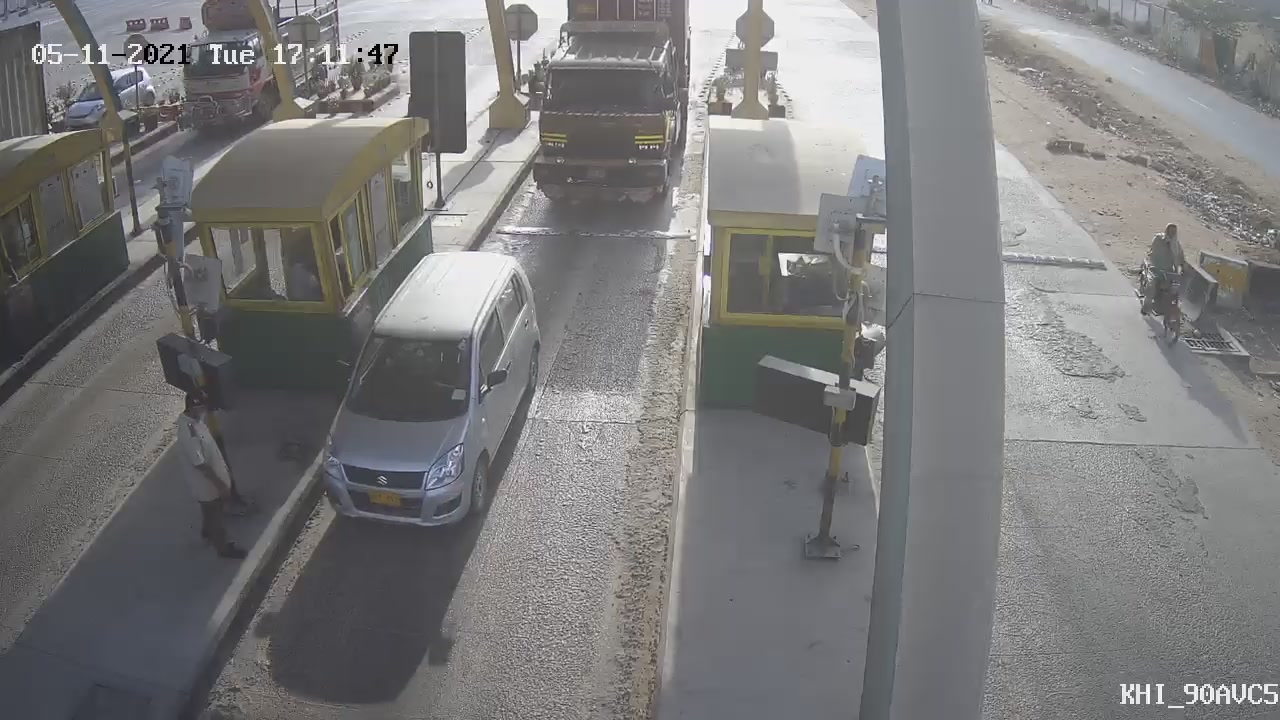F1: (300, 233, 566, 546)
